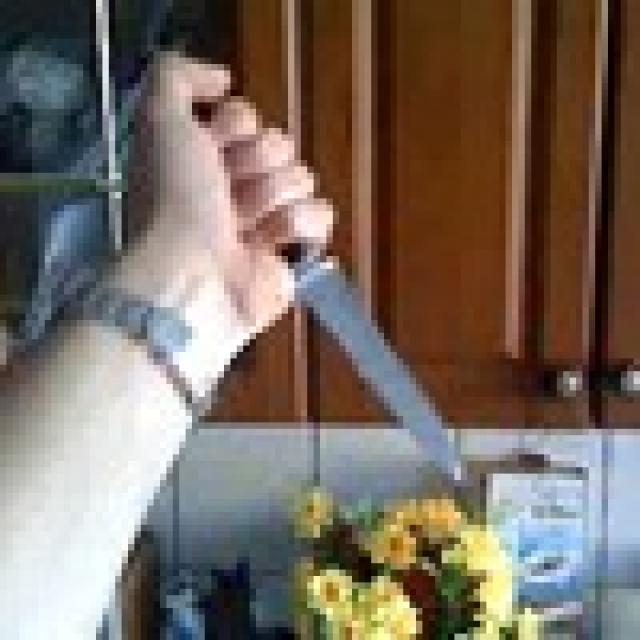Knife: (192, 96, 461, 480)
